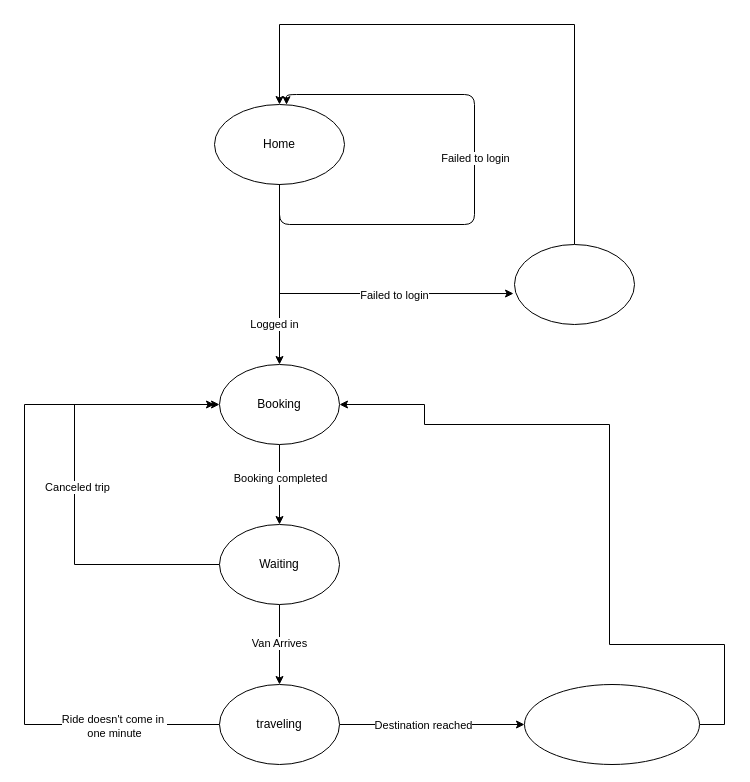
The diagram is 750 pixels wide and 782 high, and some of its shapes have lost their labels. Each missing label, with the box of its shape:
Booking complete: (524, 684, 700, 764)
Register: (514, 244, 634, 324)
